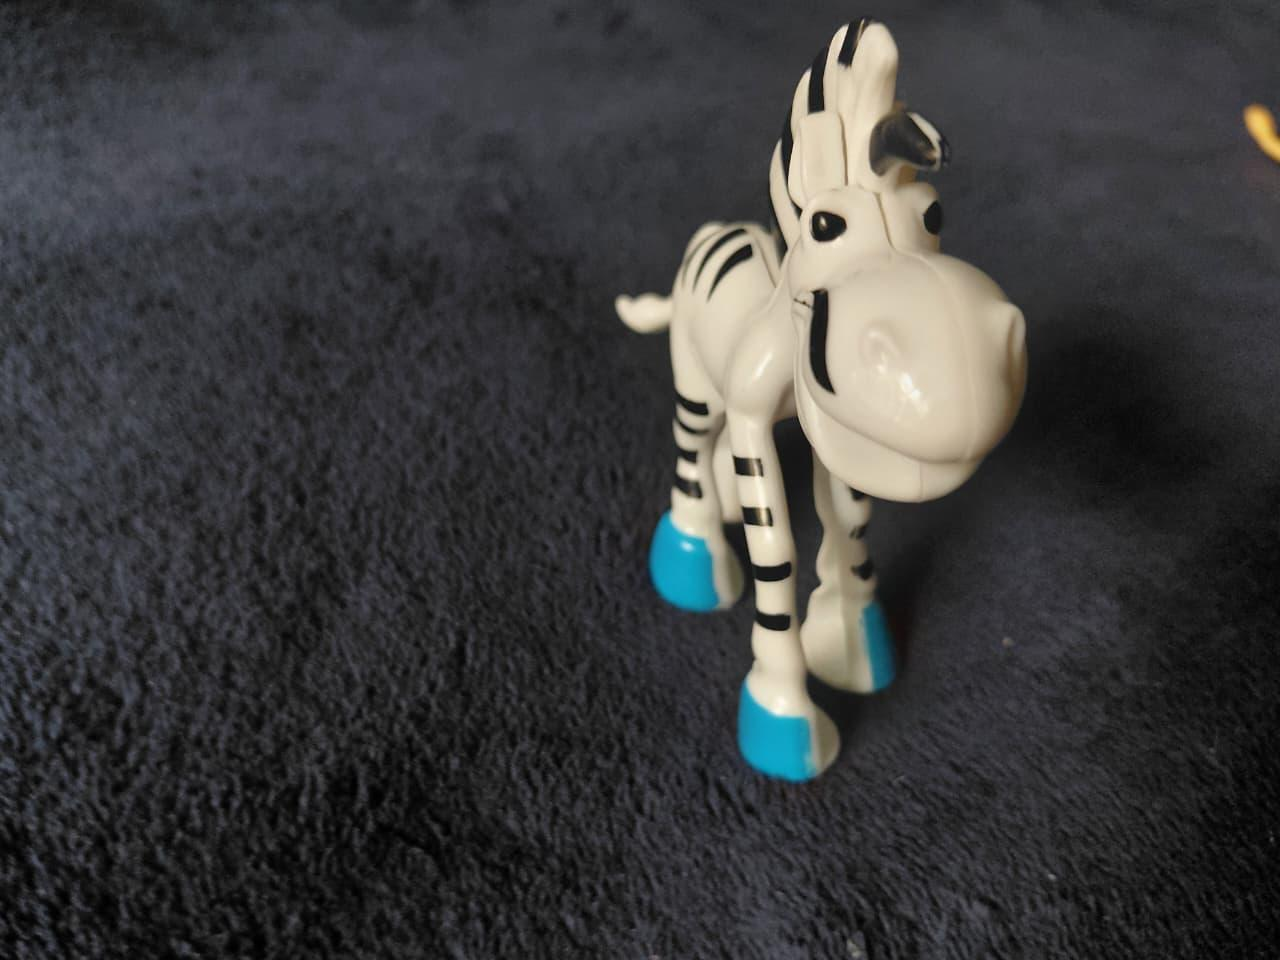zebra: (594, 8, 1059, 778)
